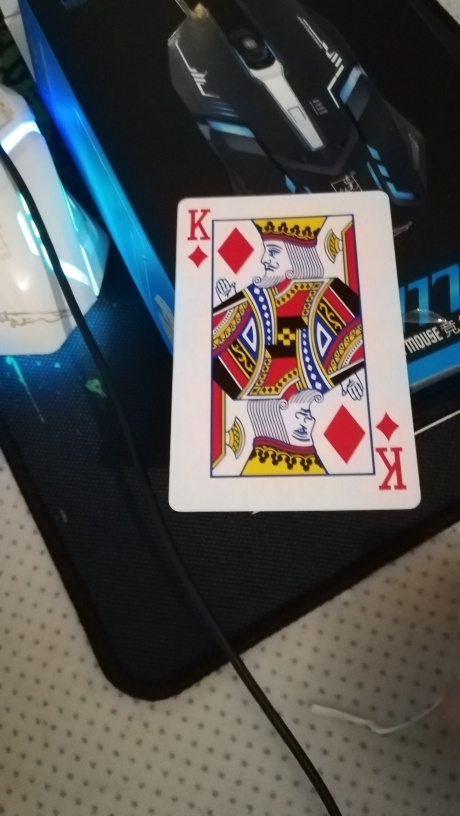fk k: (166, 187, 423, 517)
